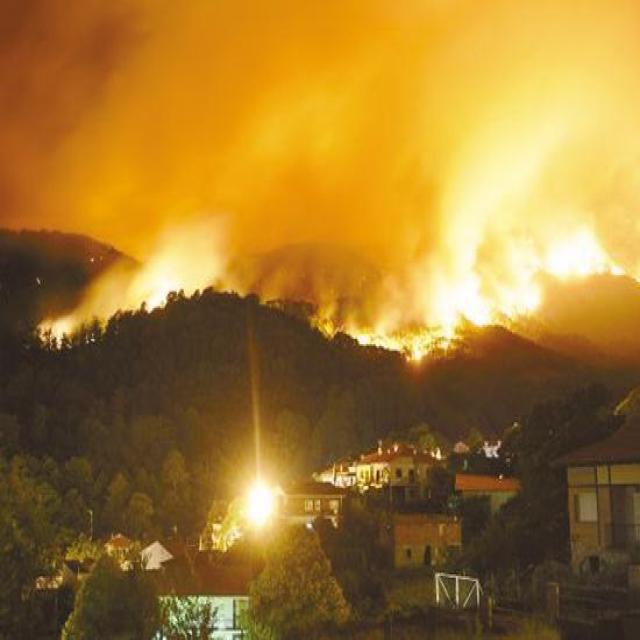fire: (372, 228, 628, 354)
